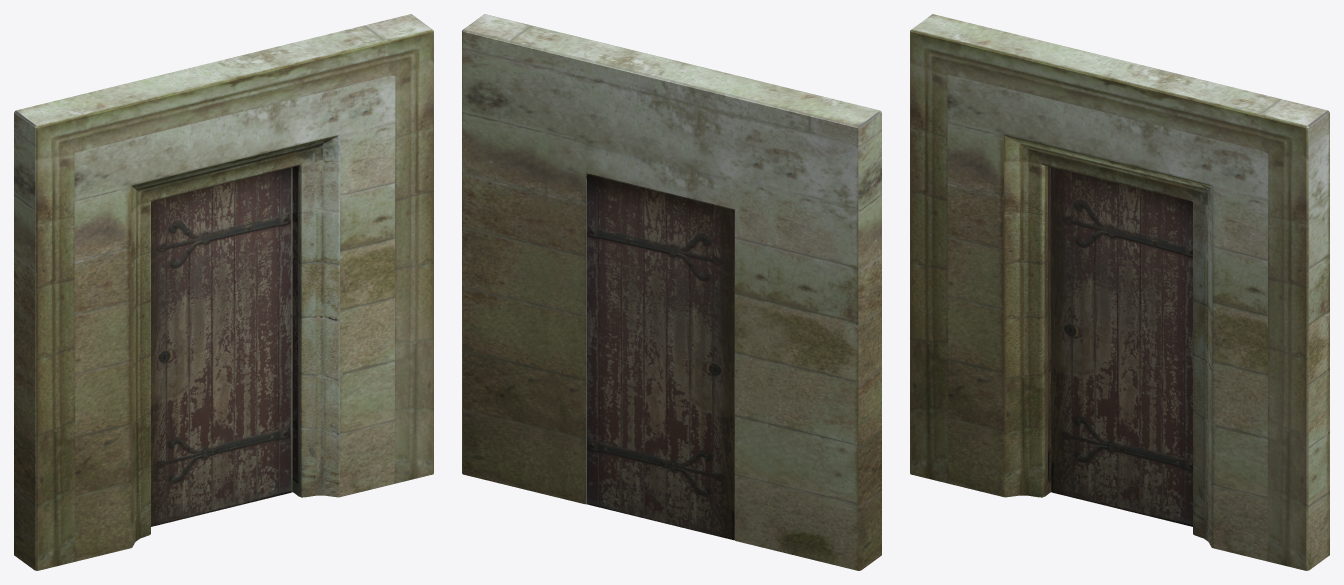
File: door 6.glb
3 renders of one model, left to right at view 1: azimuth 30°, elevation 25°; view 2: azimuth 150°, elevation 25°; view 3: azimuth 330°, elevation 25°, orthographic.
Parts seen in each view (by area): view 1: door_frame01, door01; view 2: door_frame01, door01; view 3: door_frame01, door01.
Part boxes in pixels (<box>): door_frame01: <box>14,14,433,570</box>; door01: <box>151,167,292,526</box>; door_frame01: <box>462,14,881,570</box>; door01: <box>587,173,734,540</box>; door_frame01: <box>910,14,1329,570</box>; door01: <box>1051,167,1192,526</box>.
Size of the model in its own units: 2.7 by 2.87 by 0.2693.
1 material, 1 textured.
